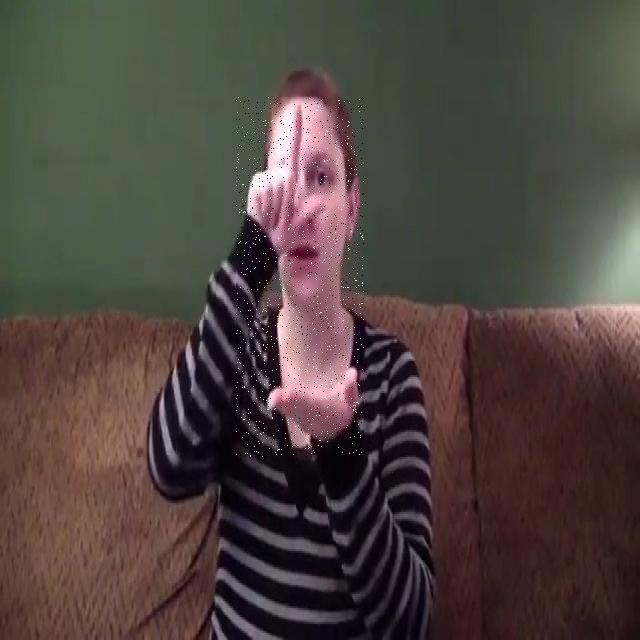chicken: (236, 98, 364, 458)
